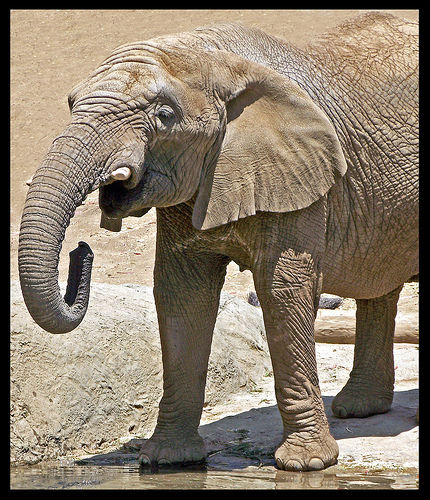elephant: (18, 13, 420, 478)
